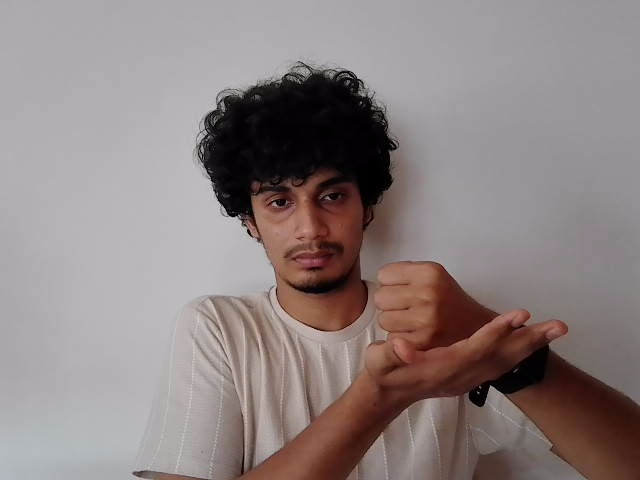help: (361, 256, 574, 398)
